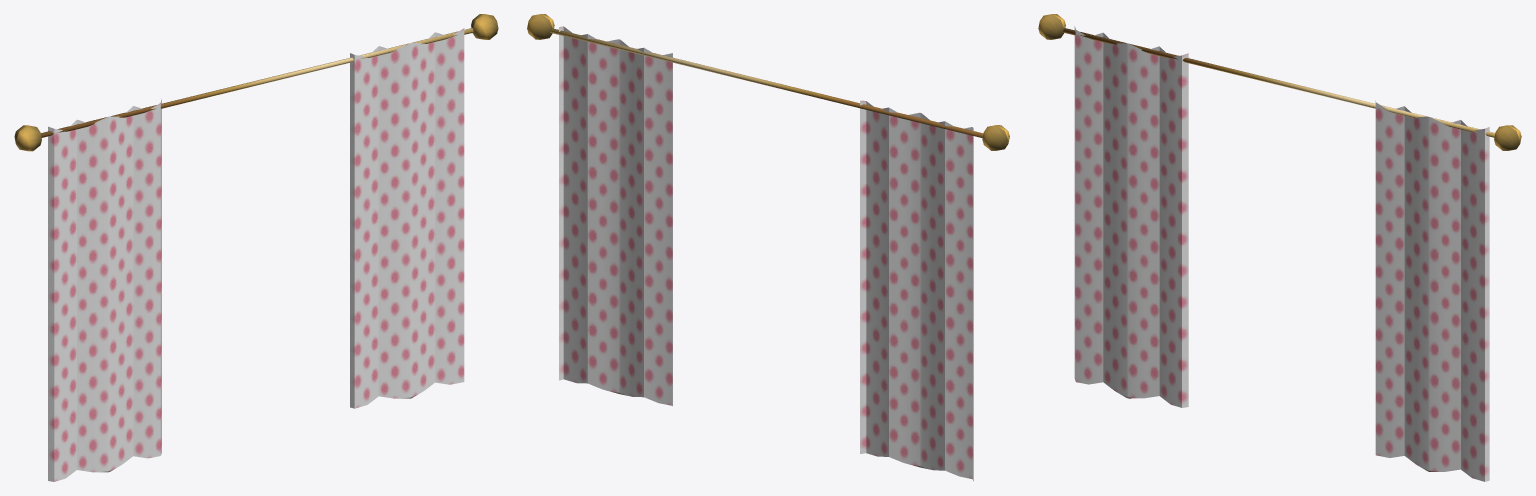
The model's file is Straight_Curtains_02.FBX.
3 views of the same model, side by side, from view 1: azimuth 30°, elevation 25°; view 2: azimuth 150°, elevation 25°; view 3: azimuth 330°, elevation 25° (orthographic).
Visible parts, largest first — view 1: Straight_Curtain; view 2: Straight_Curtain; view 3: Straight_Curtain.
Boxes of the visible parts, bbox=[...] form: Straight_Curtain: bbox=[14, 14, 498, 481]; Straight_Curtain: bbox=[527, 14, 1009, 481]; Straight_Curtain: bbox=[1038, 14, 1521, 481].
Size of the model in its own units: 582 by 421 by 29.96.
